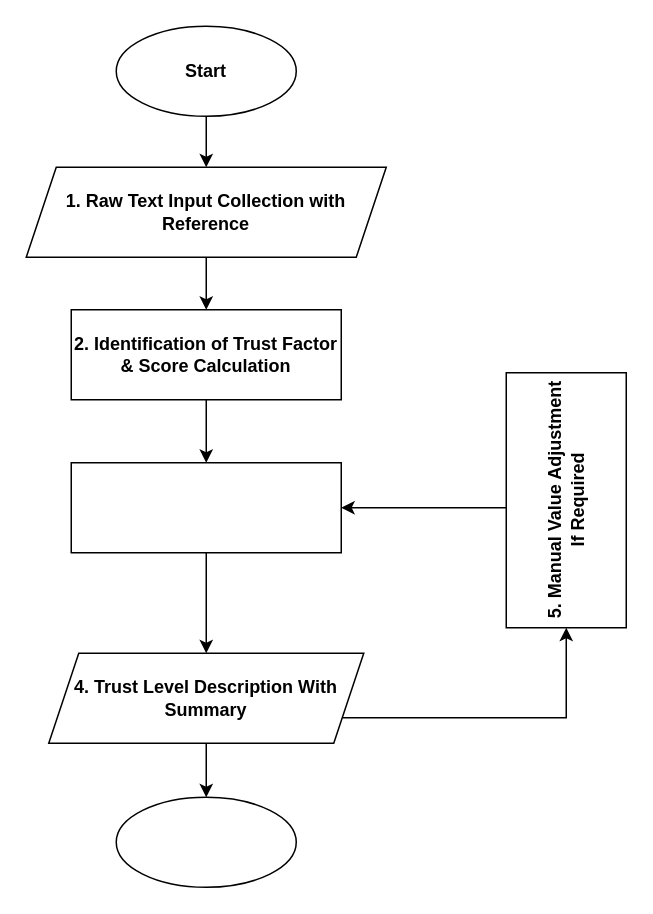
Image size: 653x914. Some labels were removed from this diagram. Here are the shapes that lost their labels. From the top down, the centre of each, then its label:
[205,507]: 3. Rounding & Value of Sign Adjustment
[205,841]: End
